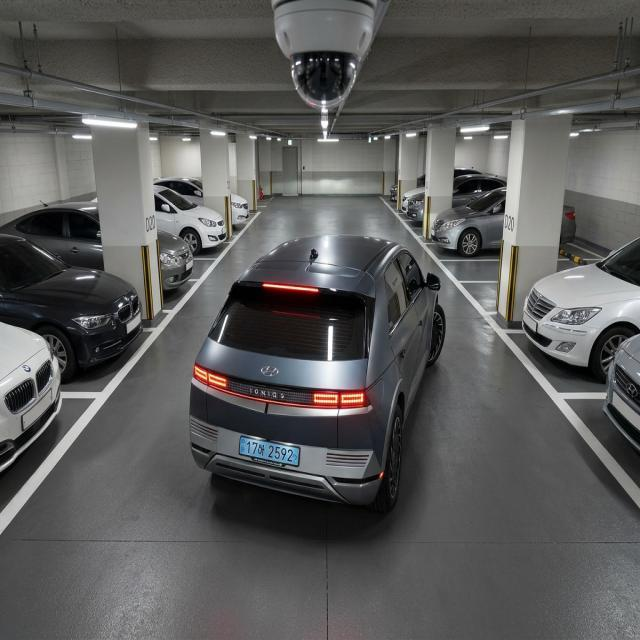car: (225, 421, 307, 476)
carev: (292, 447, 302, 468), (240, 435, 247, 455)
